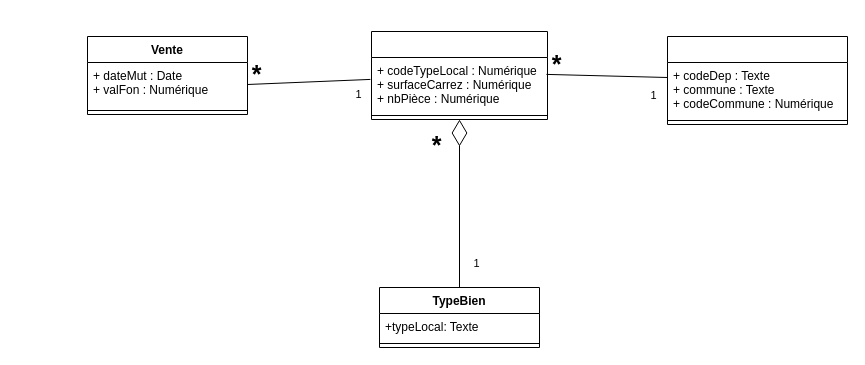
This 865x365 diagram has some shape labels left out. The box of each missing label's shape, as (x1, y1, x2, y2) in pixels:
Bien: (370, 30, 548, 120)
Localisation: (666, 36, 848, 124)
